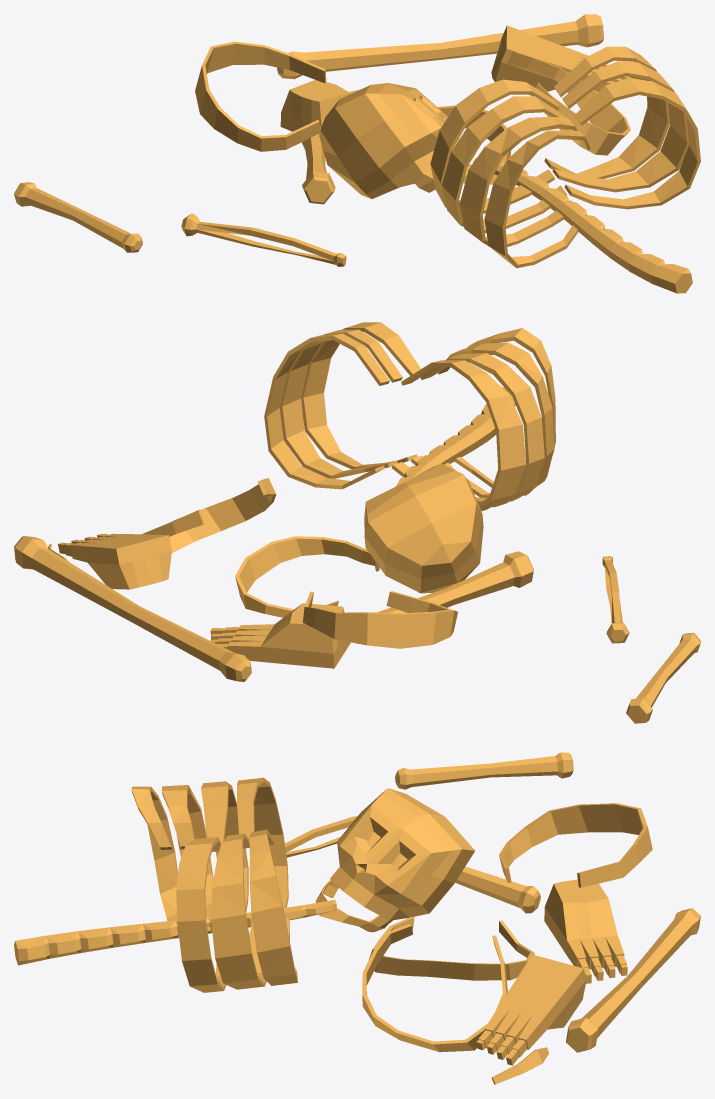
The picture shows the model from 3 angles, top to bottom: view 1: azimuth 30°, elevation 25°; view 2: azimuth 150°, elevation 25°; view 3: azimuth 270°, elevation 25°; orthographic projection. The views are drawn at different scales.
Visible parts, largest first — view 1: os_11, os_08, os_12, os_06, os_10, os_04, os_03, os_01, os_07, os_02, os_05; view 2: os_11, os_08, os_12, os_06, os_07, os_10, os_05, os_04, os_02, os_01, os_03; view 3: os_11, os_08, os_10, os_07, os_06, os_12, os_01, os_05, os_04, os_02, os_03, os_09.
Boxes of the visible parts, bbox=[...] form: os_11: bbox=[430, 46, 700, 293]; os_08: bbox=[319, 83, 471, 199]; os_12: bbox=[277, 14, 603, 79]; os_06: bbox=[195, 41, 326, 151]; os_10: bbox=[491, 25, 631, 95]; os_04: bbox=[507, 51, 630, 155]; os_03: bbox=[181, 213, 346, 266]; os_01: bbox=[14, 182, 142, 252]; os_07: bbox=[280, 80, 359, 131]; os_02: bbox=[302, 127, 335, 204]; os_05: bbox=[437, 105, 511, 184]; os_11: bbox=[264, 322, 555, 511]; os_08: bbox=[364, 463, 483, 593]; os_12: bbox=[14, 536, 251, 681]; os_06: bbox=[302, 591, 457, 648]; os_07: bbox=[210, 603, 350, 668]; os_10: bbox=[58, 533, 171, 589]; os_05: bbox=[235, 536, 379, 617]; os_04: bbox=[142, 478, 276, 552]; os_02: bbox=[377, 551, 533, 613]; os_01: bbox=[626, 632, 700, 723]; os_03: bbox=[602, 556, 629, 643]; os_11: bbox=[14, 777, 336, 992]; os_08: bbox=[315, 788, 474, 932]; os_10: bbox=[476, 954, 586, 1065]; os_07: bbox=[544, 879, 627, 983]; os_06: bbox=[499, 803, 652, 887]; os_12: bbox=[566, 908, 700, 1052]; os_01: bbox=[395, 752, 573, 789]; os_05: bbox=[369, 917, 534, 980]; os_04: bbox=[362, 924, 507, 1052]; os_02: bbox=[455, 866, 540, 913]; os_03: bbox=[285, 816, 357, 857]; os_09: bbox=[491, 1047, 548, 1084].
Size of the model in its own units: 107 by 28.81 by 101.
1 material, 1 textured.
